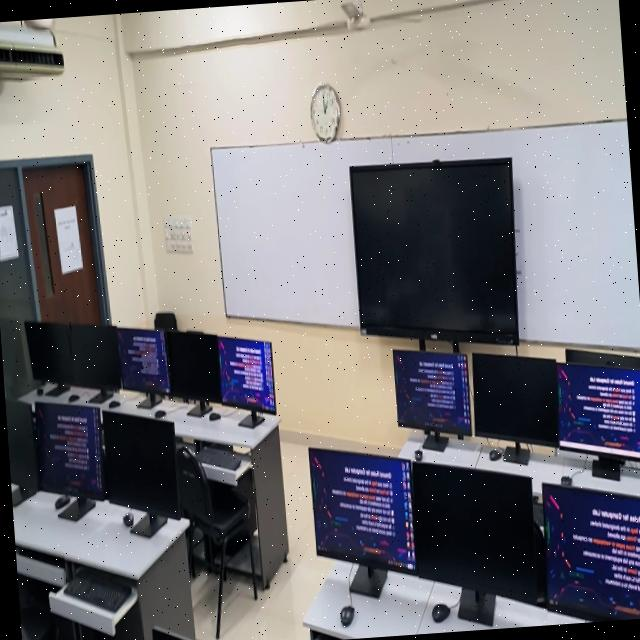Ac: (0, 21, 64, 79)
Chair: (177, 446, 256, 638), (154, 311, 177, 330), (20, 624, 30, 640)
Digital board: (351, 160, 519, 351)
Keyboard: (64, 567, 133, 612), (197, 446, 242, 470)
Monitor: (411, 462, 538, 604), (542, 482, 640, 622), (308, 448, 416, 575), (102, 411, 181, 518), (557, 363, 640, 461), (472, 353, 559, 445), (35, 402, 106, 498), (393, 350, 471, 435), (218, 338, 275, 411), (166, 331, 222, 403), (117, 328, 170, 393), (69, 325, 121, 391), (5, 398, 38, 502), (25, 321, 74, 383), (565, 348, 640, 370)
Mouse: (432, 603, 450, 622), (340, 604, 354, 626), (489, 446, 503, 460), (55, 495, 70, 508), (123, 511, 134, 526), (413, 448, 423, 461), (561, 475, 572, 486), (154, 409, 166, 418), (209, 411, 221, 419), (68, 394, 79, 401), (109, 400, 120, 406)
